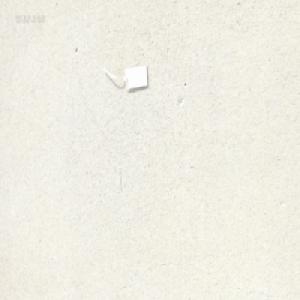LuggageTag: (100, 61, 150, 92)
